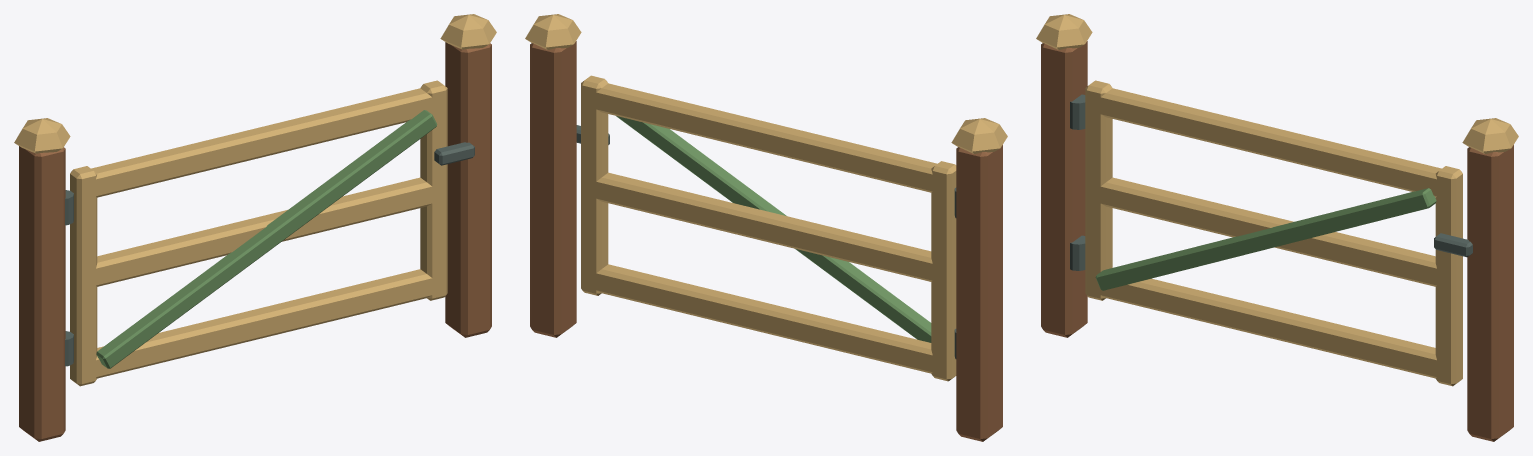
File: 12_Farm_Gate.glb
The picture shows the model from 3 angles, left to right: view 1: azimuth 30°, elevation 25°; view 2: azimuth 150°, elevation 25°; view 3: azimuth 330°, elevation 25°; orthographic projection.
Parts seen in each view (by area): view 1: 12_Farm_Gate__Gate, 12_Farm_Gate__Body; view 2: 12_Farm_Gate__Gate, 12_Farm_Gate__Body; view 3: 12_Farm_Gate__Gate, 12_Farm_Gate__Body.
Boxes of the visible parts, x1=… form: 12_Farm_Gate__Gate: x1=70, y1=80, x2=474, y2=386; 12_Farm_Gate__Body: x1=14, y1=14, x2=496, y2=441; 12_Farm_Gate__Gate: x1=576, y1=75, x2=956, y2=381; 12_Farm_Gate__Body: x1=525, y1=14, x2=1007, y2=441; 12_Farm_Gate__Gate: x1=1085, y1=80, x2=1472, y2=386; 12_Farm_Gate__Body: x1=1036, y1=14, x2=1518, y2=441.
Bounding box in the file's own units: 4.13 × 2.61 × 0.4475.
Materials: 1 (1 with a texture image).
